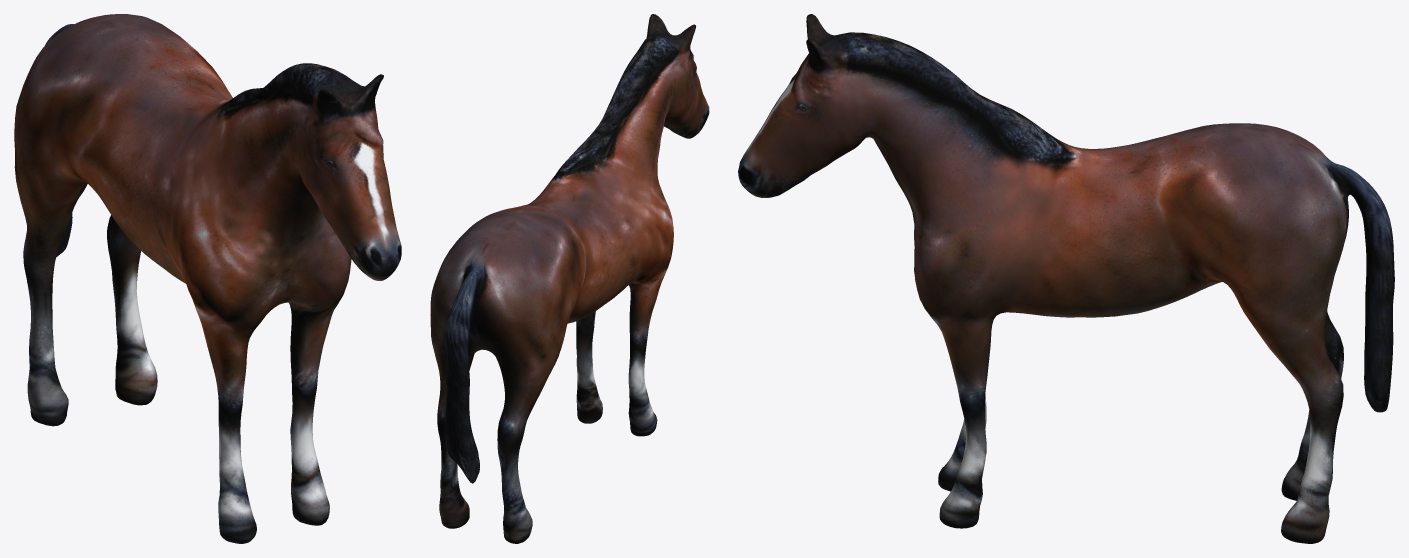
Rendered from uploads_files_5014708_Horse_Quad.fbx.
The picture shows the model from 3 angles, left to right: view 1: azimuth 30°, elevation 25°; view 2: azimuth 150°, elevation 25°; view 3: azimuth 270°, elevation 25°; orthographic projection. The views are drawn at different scales.
Parts seen in each view (by area): view 1: Horse_Quad; view 2: Horse_Quad; view 3: Horse_Quad.
Part boxes in pixels (x1,y1,x2,y2): Horse_Quad: (14, 14, 401, 543); Horse_Quad: (430, 14, 709, 543); Horse_Quad: (738, 14, 1394, 543).
Size of the model in its own units: 67.66 by 206 by 248.
